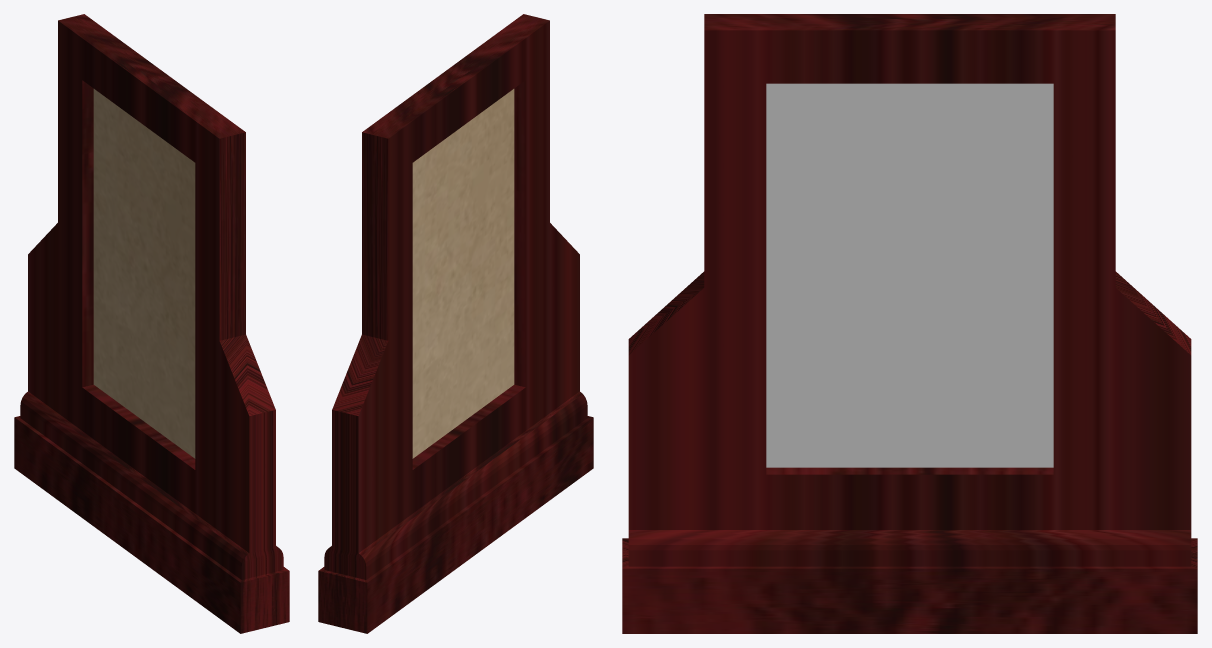
File: worship_portrait.fbx
3 renders of one model, left to right at view 1: azimuth 30°, elevation 25°; view 2: azimuth 150°, elevation 25°; view 3: azimuth 270°, elevation 25°, orthographic. The views are drawn at different scales.
Parts seen in each view (by area): view 1: frame, picture; view 2: frame, picture; view 3: frame, picture.
Part boxes in pixels (x1,y1,x2,y2): frame: (14, 14, 289, 633); picture: (93, 89, 195, 458); frame: (318, 14, 593, 633); picture: (412, 89, 514, 458); frame: (622, 14, 1197, 633); picture: (766, 83, 1053, 467).
Size of the model in its own units: 200 by 1831 by 1600.
3 materials, 2 textured.
